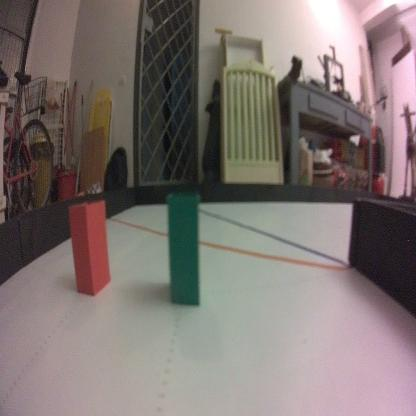green: (164, 188, 204, 310)
red: (68, 196, 113, 296)
